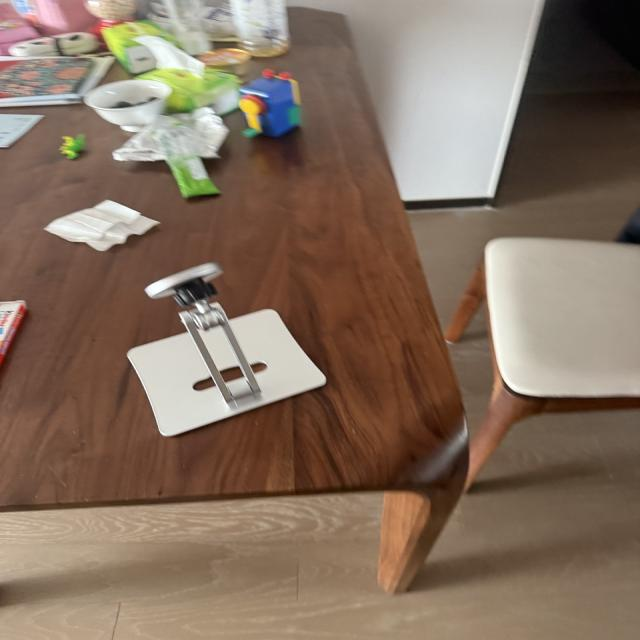phone holder: (89, 262, 334, 440)
